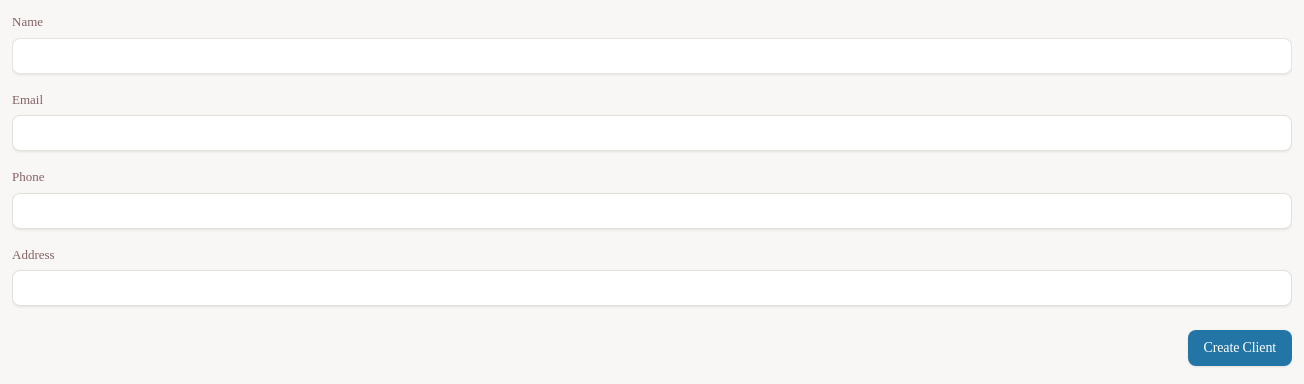
Test: ClientForm › shows loading state while submitting
The width and height of the screenshot is (1304, 384).
In the field labelled "Name": (652, 56) [12,38,1292,74], type "Test"
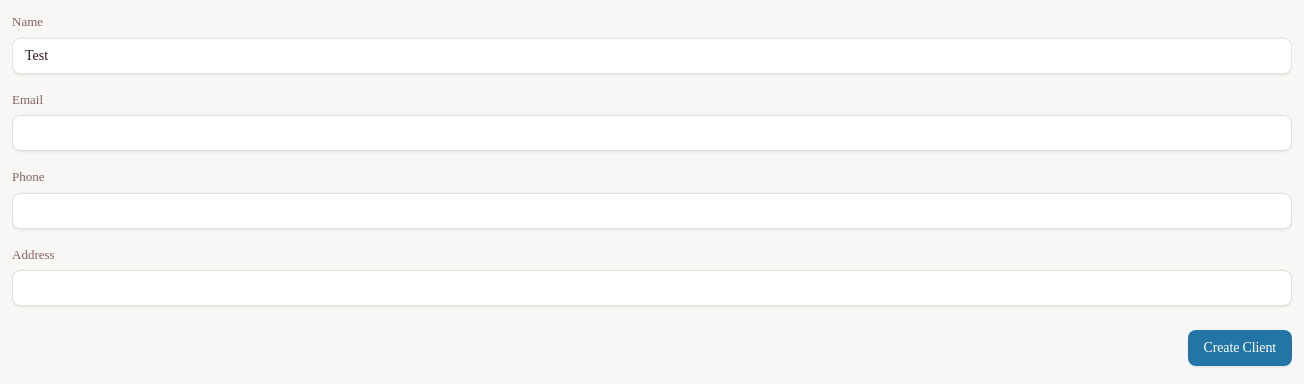
Submit the form "Create Client"
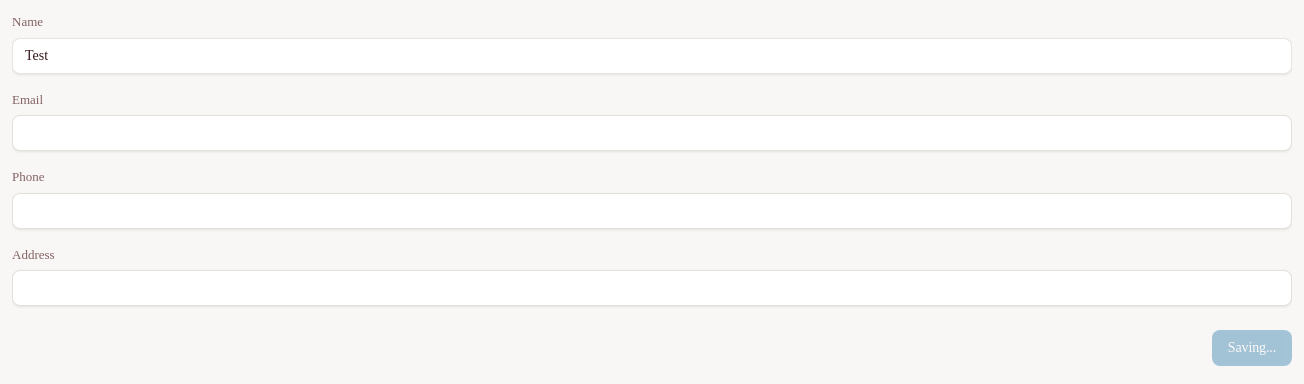
Expected: the button "Saving..." is disabled, [1212,330,1292,366]
